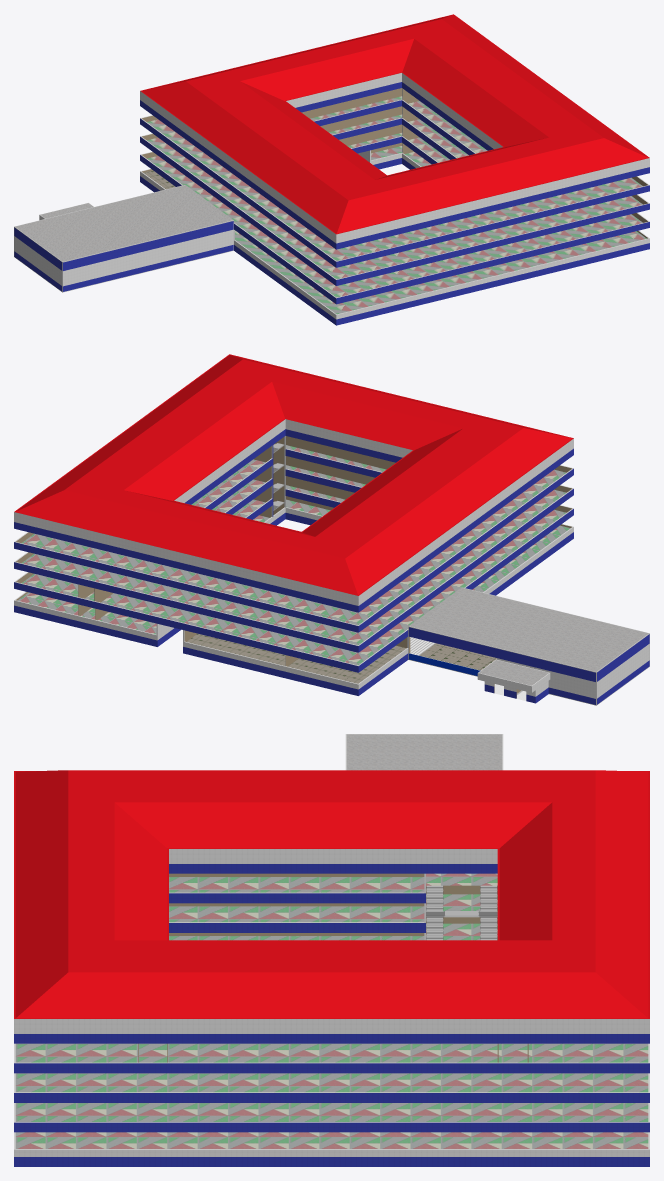
The model's file is FET.fbx.
3 renders of one model, top to bottom at view 1: azimuth 30°, elevation 25°; view 2: azimuth 150°, elevation 25°; view 3: azimuth 270°, elevation 25°, orthographic. The views are drawn at different scales.
Visible parts, largest first — view 1: FET; view 2: FET; view 3: FET, Лестница.
Part boxes in pixels (left/top/right/bottom): FET: left=14, top=14, right=649, bottom=325; FET: left=14, top=354, right=649, bottom=705; FET: left=14, top=734, right=649, bottom=1166; Лестница: left=426, top=885, right=497, bottom=940.
Bounding box in the file's own units: 10354 × 2160 × 7254.
